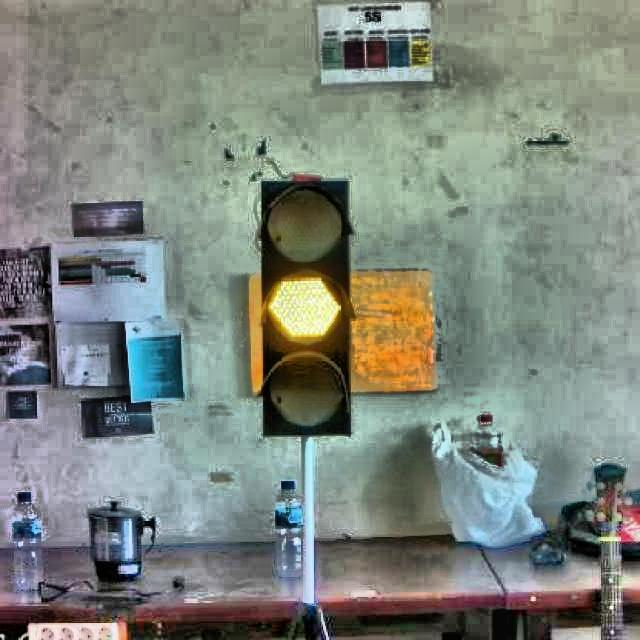yellow: (252, 174, 366, 438)
